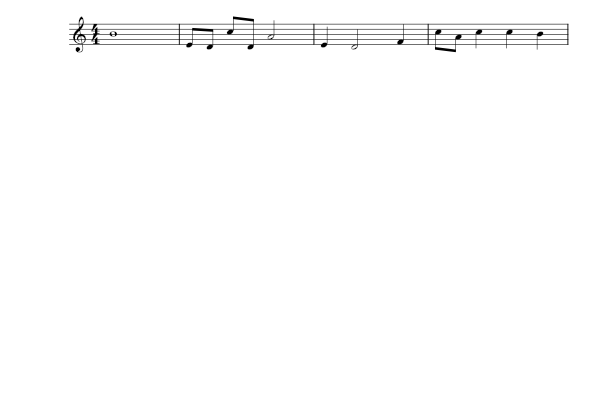Treble Clef: (69, 11, 88, 57)
